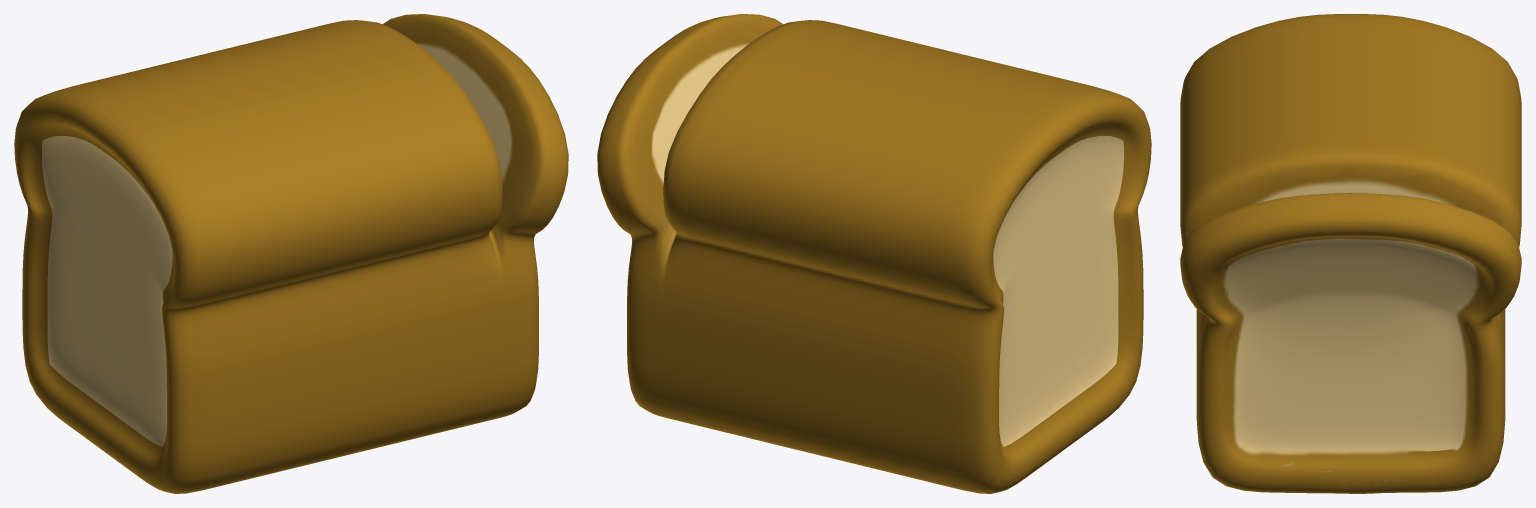
Rendered from BreadTree.fbx.
3 views of the same model, side by side, from view 1: azimuth 30°, elevation 25°; view 2: azimuth 150°, elevation 25°; view 3: azimuth 270°, elevation 25° (orthographic). The views are drawn at different scales.
Visible parts, largest first — view 1: Cube; view 2: Cube; view 3: Cube.
Part boxes in pixels (<box>): Cube: <box>14,14,568,493</box>; Cube: <box>597,14,1151,493</box>; Cube: <box>1180,14,1521,493</box>.
Bounding box in the file's own units: 290 × 230 × 221.
